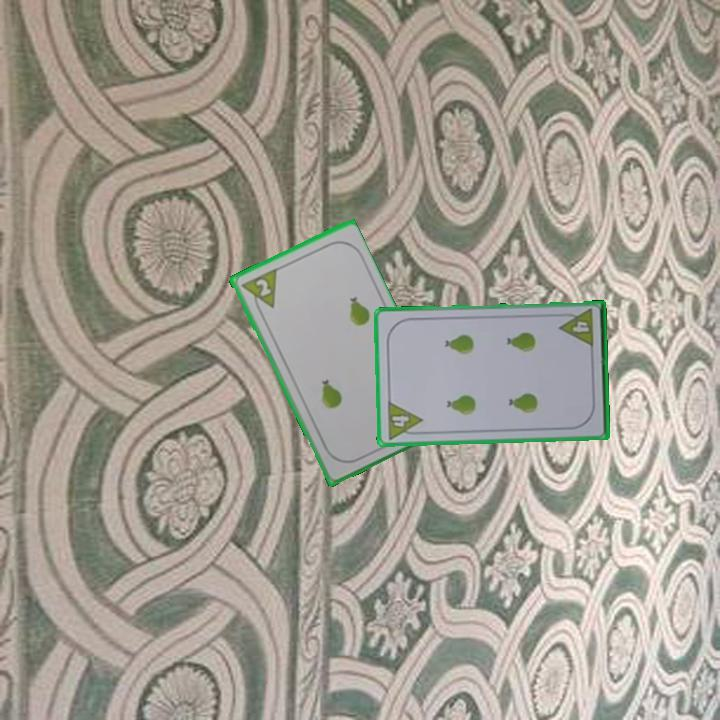2p: (237, 265, 280, 316)
4p: (384, 398, 425, 442), (556, 306, 596, 350)
